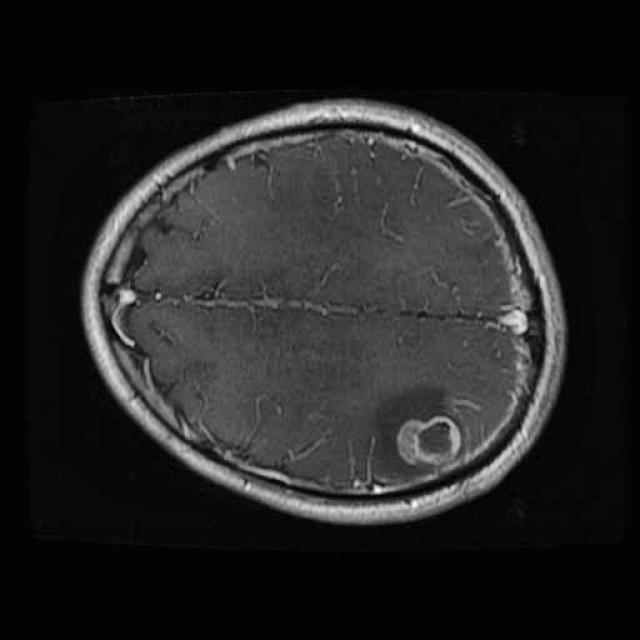Non-Tumor: (385, 400, 475, 488)
